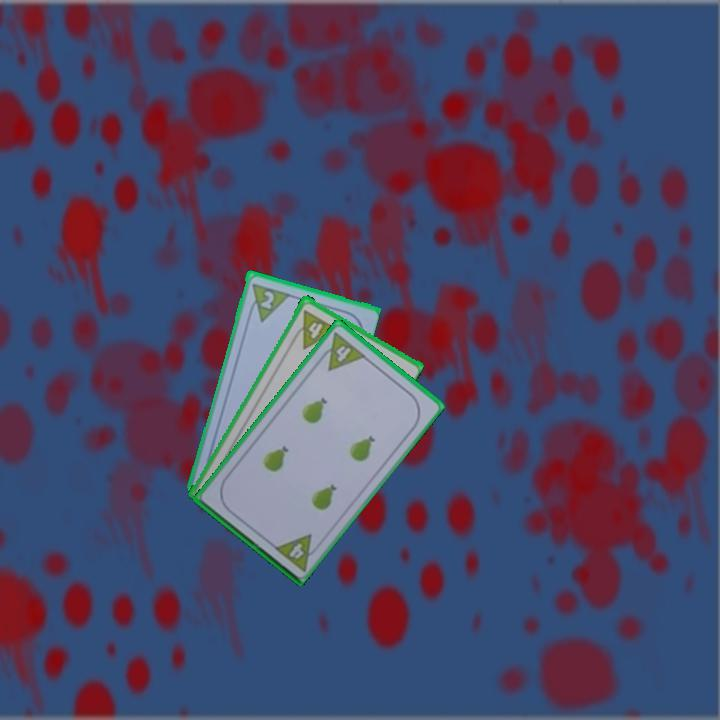2p: (256, 287, 277, 312)
4p: (314, 328, 368, 373), (270, 530, 324, 574), (288, 306, 340, 351)
